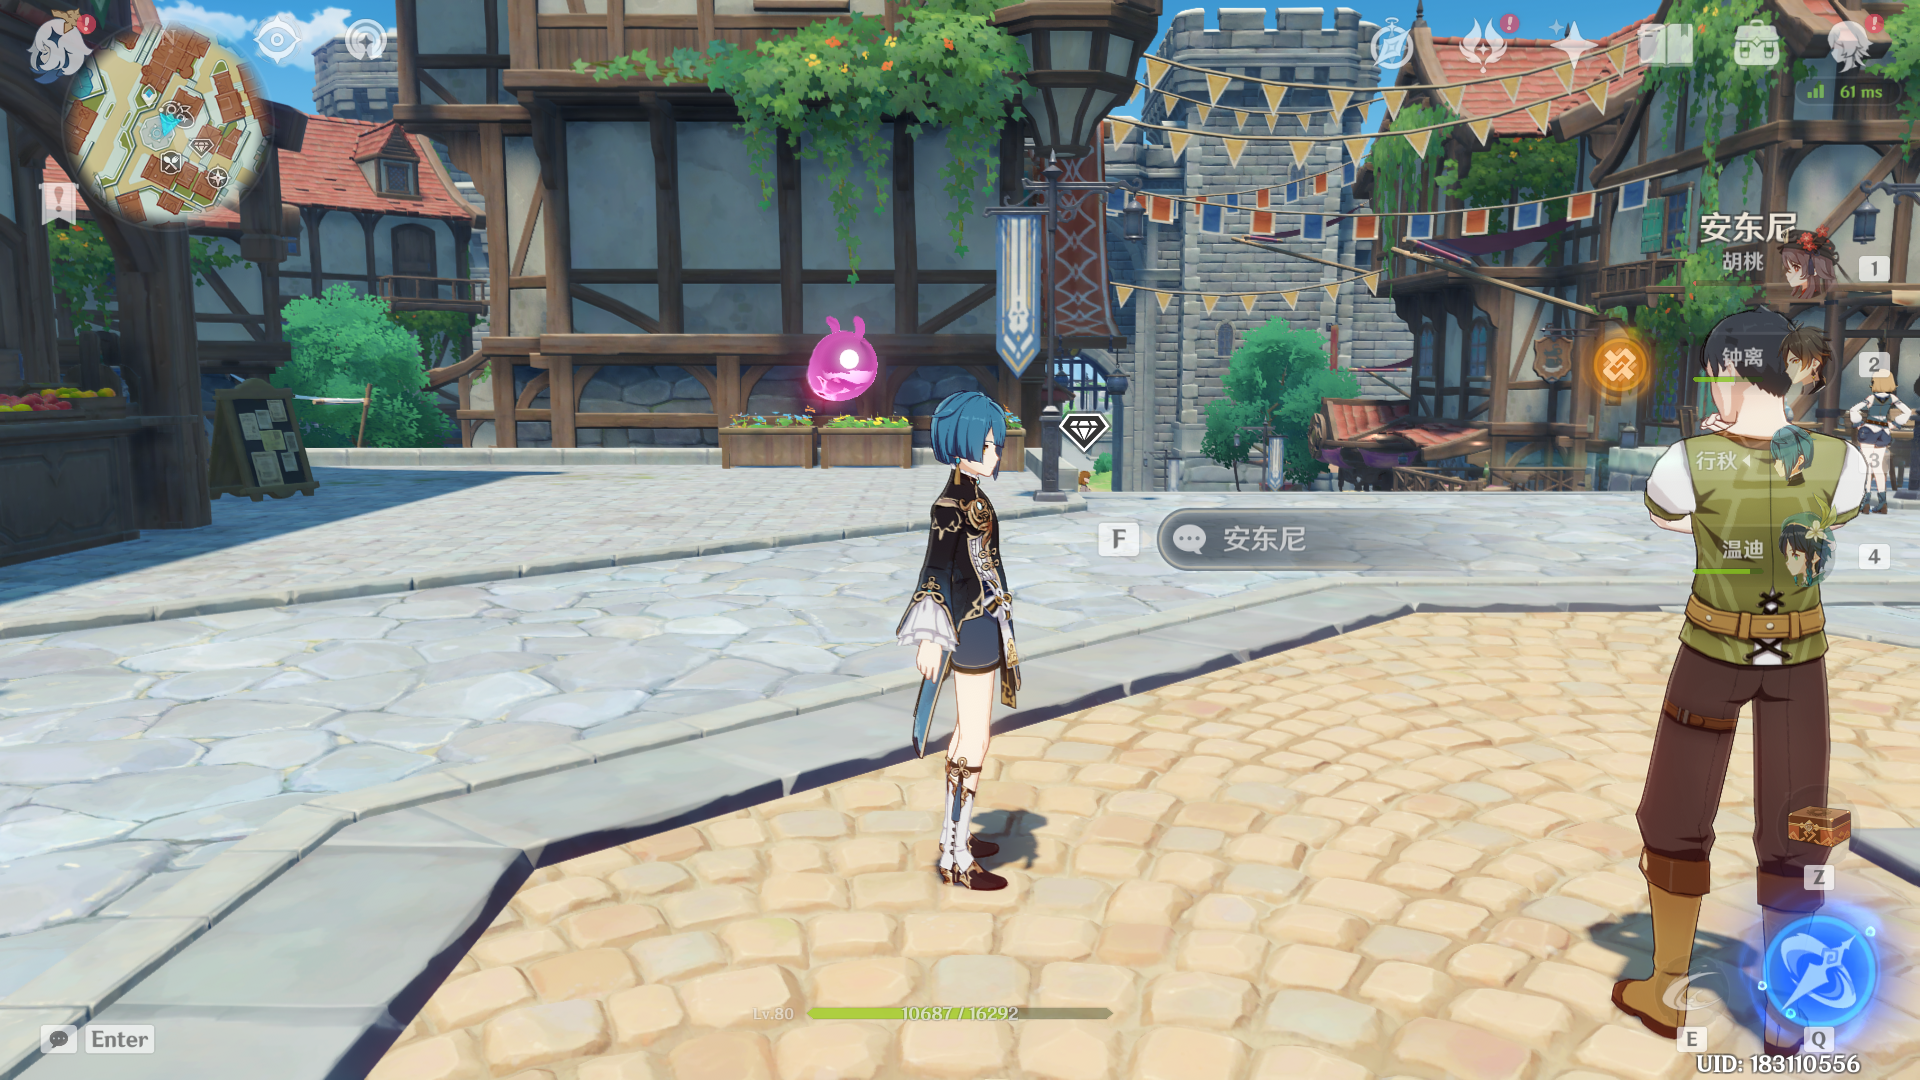character: (862, 349, 1102, 913)
